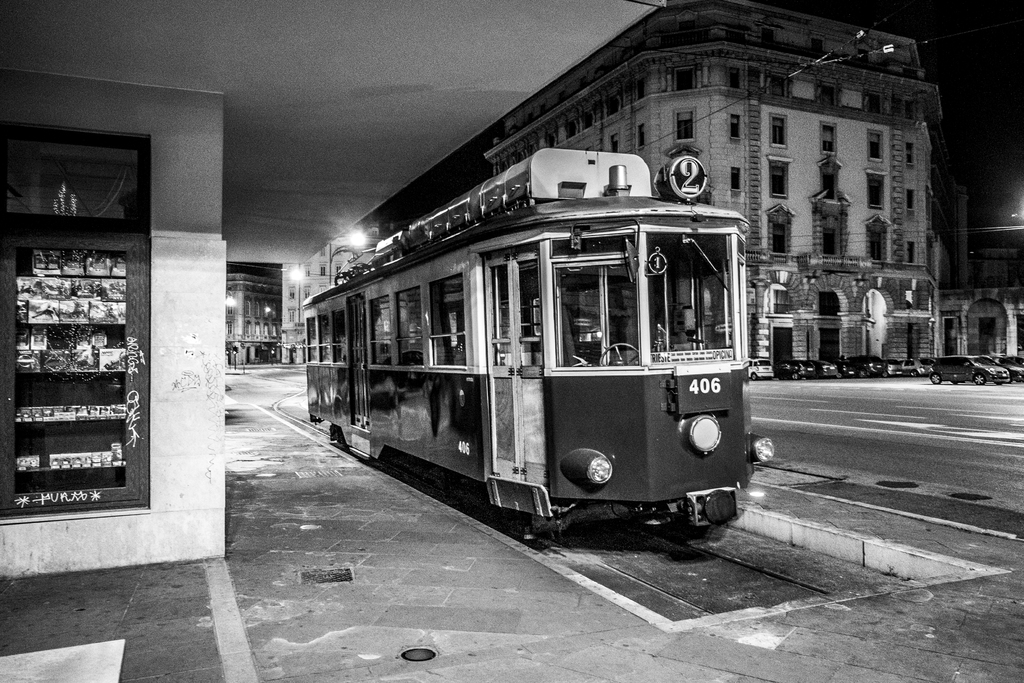Car: (745, 354, 1023, 385)
